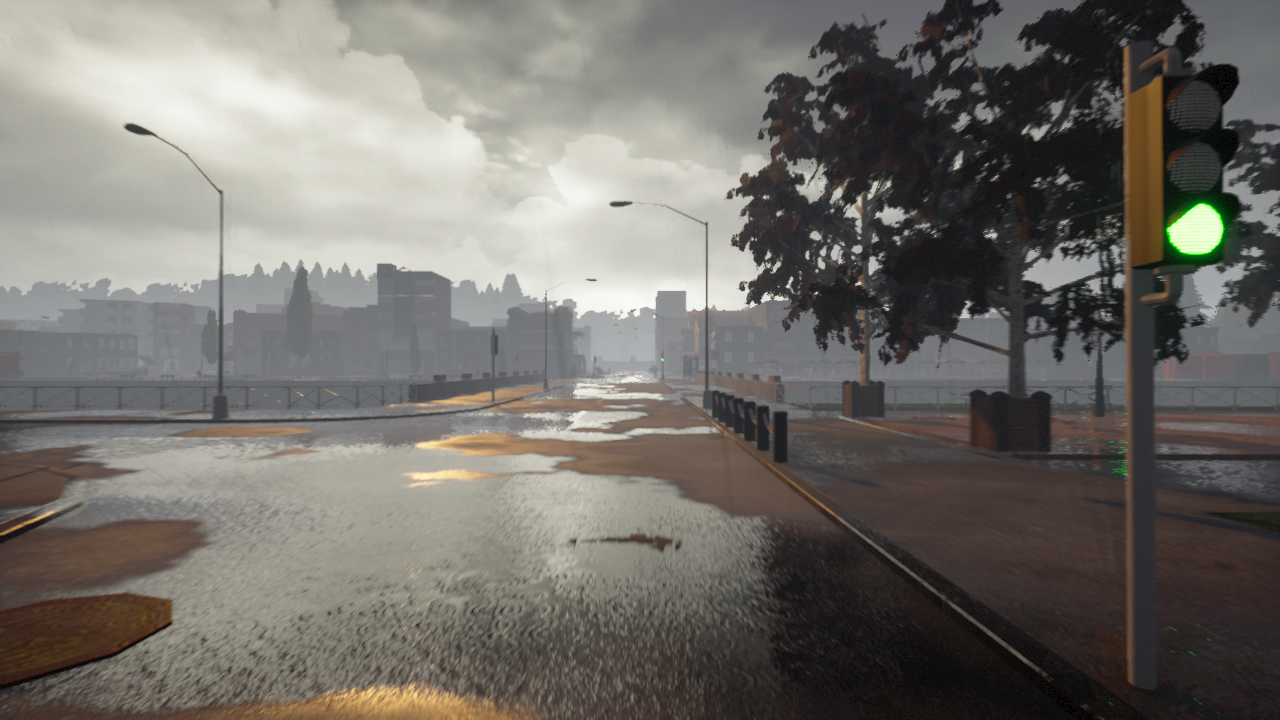green: (1129, 62, 1249, 272)
